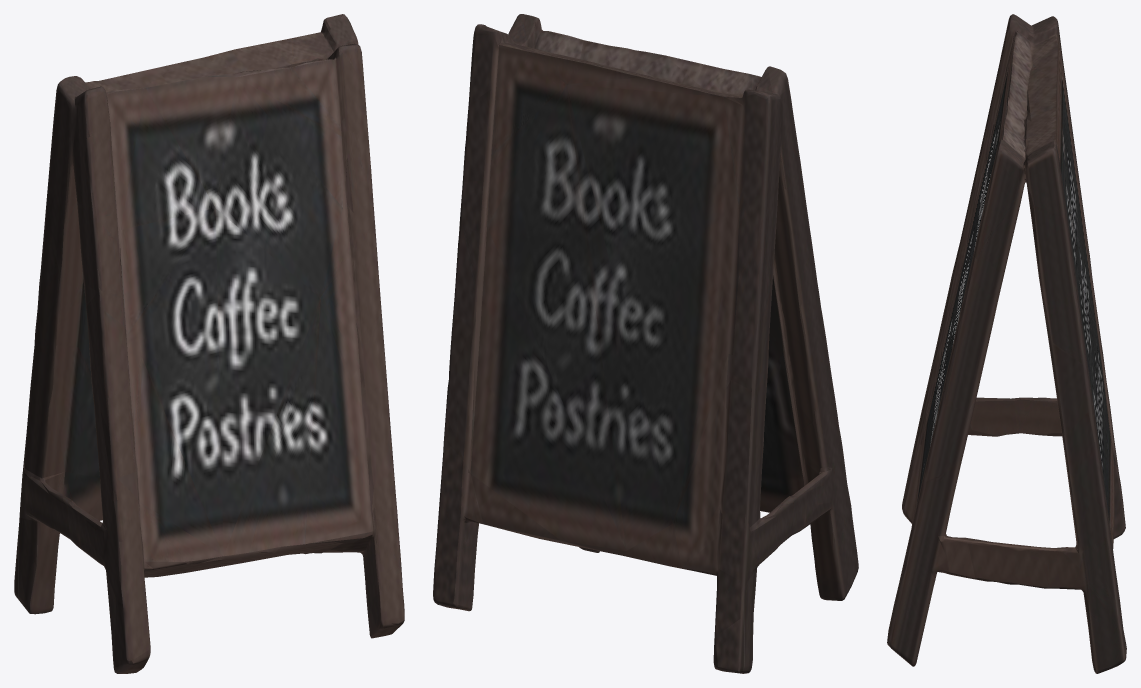
File: pavement-menu.glb
3 renders of one model, left to right at view 1: azimuth 30°, elevation 25°; view 2: azimuth 150°, elevation 25°; view 3: azimuth 270°, elevation 25°, orthographic. The views are drawn at different scales.
Visible parts, largest first — view 1: Mesh_0; view 2: Mesh_0; view 3: Mesh_0.
Boxes of the visible parts, bbox=[...] form: Mesh_0: bbox=[14, 14, 404, 673]; Mesh_0: bbox=[433, 14, 858, 673]; Mesh_0: bbox=[887, 14, 1126, 673].
Size of the model in its own units: 0.58 by 1.04 by 0.42.
Materials: 1 (1 with a texture image).
